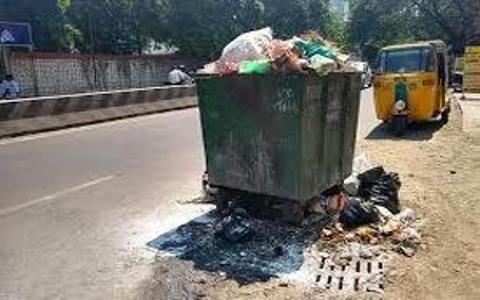overflowing garbage: (187, 29, 370, 237)
